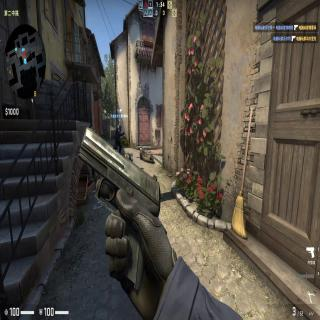CT-Head: (118, 123, 122, 130)
